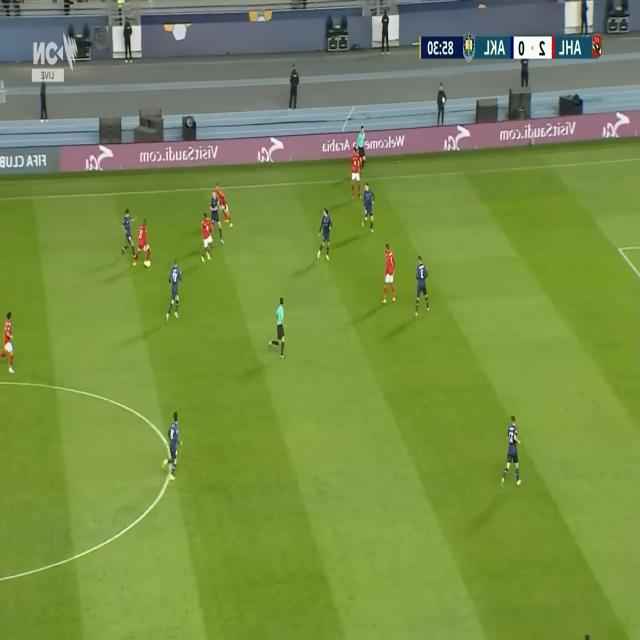Ball: (146, 259, 152, 267)
Player: (499, 414, 523, 492), (162, 410, 182, 486), (164, 258, 183, 324), (379, 242, 397, 306), (0, 304, 16, 372), (413, 253, 428, 321), (317, 207, 333, 264), (360, 182, 376, 236), (215, 181, 233, 229), (209, 191, 224, 247), (133, 218, 149, 268), (122, 209, 137, 261), (349, 147, 362, 204), (199, 213, 213, 265)
Ref: (267, 295, 285, 360), (356, 127, 367, 177)
